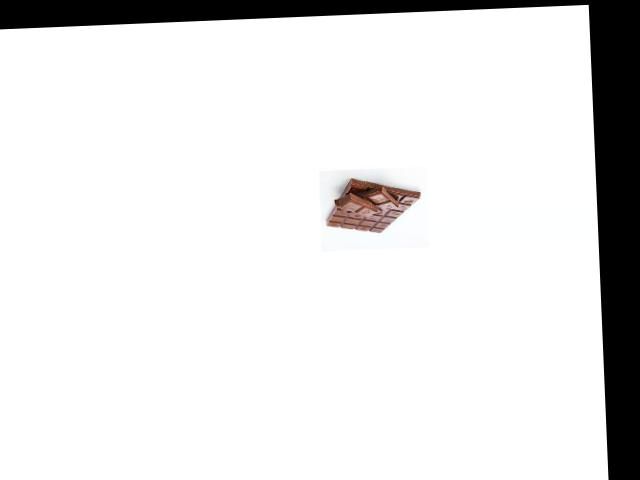chocolate: (323, 171, 423, 239)
